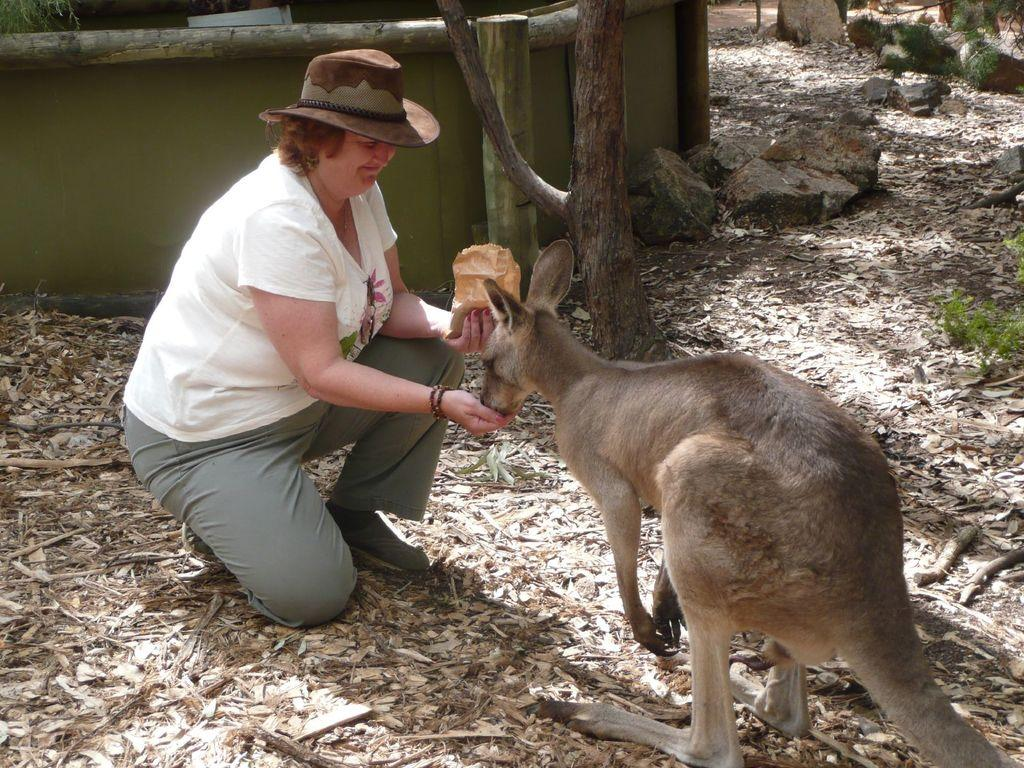kangaroo: (480, 238, 1024, 768)
